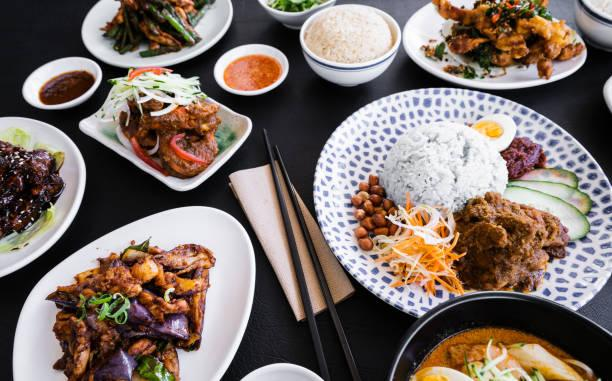Braised Crucian Carp: (313, 87, 608, 318), (12, 206, 254, 381), (77, 82, 250, 189), (401, 0, 586, 89), (81, 0, 232, 68)
